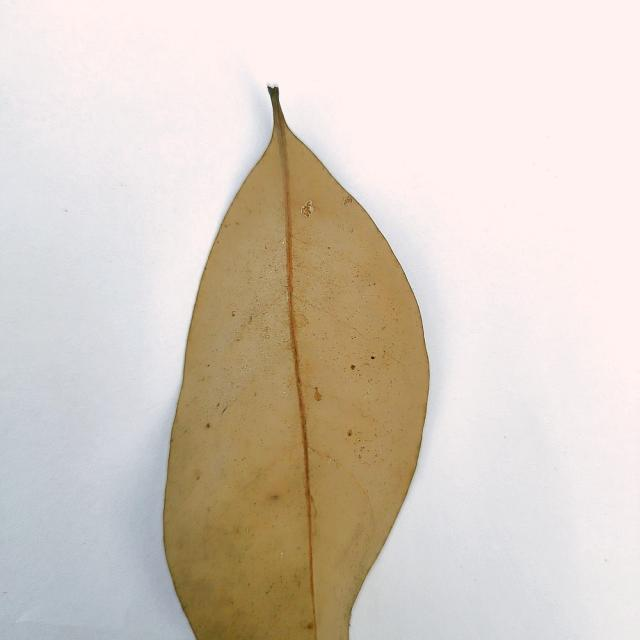Dry_Leaf-Lychee: (161, 86, 431, 639)
